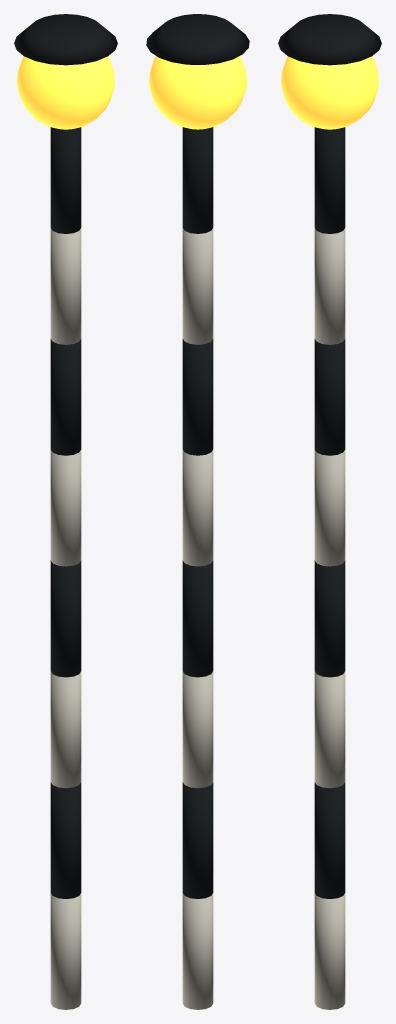
Rendered from crossing-beacon.glb.
3 views of the same model, side by side, from view 1: azimuth 90°, elevation 25°; view 2: azimuth 150°, elevation 25°; view 3: azimuth 270°, elevation 25° (orthographic).
Visible parts, largest first — view 1: Amber globe, Cap, Pole section.003, Pole section.006, Pole section, Pole section.001, Pole section.002, Pole section.005, Pole section.004, Pole section.007; view 2: Amber globe, Cap, Pole section.002, Pole section.005, Pole section.006, Pole section, Pole section.001, Pole section.003, Pole section.004, Pole section.007; view 3: Amber globe, Cap, Pole section.003, Pole section.006, Pole section, Pole section.001, Pole section.002, Pole section.005, Pole section.004, Pole section.007.
Part boxes in pixels (left/top/right/bottom): Amber globe: left=17, top=56, right=114, bottom=129; Cap: left=14, top=14, right=117, bottom=65; Pole section.003: left=50, top=560, right=81, bottom=677; Pole section.006: left=50, top=228, right=81, bottom=344; Pole section: left=50, top=893, right=81, bottom=1009; Pole section.001: left=50, top=782, right=81, bottom=898; Pole section.002: left=50, top=671, right=81, bottom=788; Pole section.005: left=50, top=339, right=81, bottom=455; Pole section.004: left=50, top=450, right=81, bottom=566; Pole section.007: left=50, top=127, right=81, bottom=233; Amber globe: left=149, top=56, right=246, bottom=129; Cap: left=146, top=14, right=249, bottom=64; Pole section.002: left=182, top=671, right=213, bottom=788; Pole section.005: left=182, top=339, right=213, bottom=455; Pole section.006: left=182, top=228, right=213, bottom=344; Pole section: left=182, top=893, right=213, bottom=1009; Pole section.001: left=182, top=782, right=213, bottom=898; Pole section.003: left=182, top=560, right=213, bottom=677; Pole section.004: left=182, top=449, right=213, bottom=566; Pole section.007: left=182, top=127, right=213, bottom=233; Amber globe: left=281, top=56, right=378, bottom=129; Cap: left=278, top=14, right=381, bottom=65; Pole section.003: left=314, top=560, right=345, bottom=677; Pole section.006: left=314, top=228, right=345, bottom=344; Pole section: left=314, top=893, right=345, bottom=1009; Pole section.001: left=314, top=782, right=345, bottom=898; Pole section.002: left=314, top=671, right=345, bottom=788; Pole section.005: left=314, top=339, right=345, bottom=455; Pole section.004: left=314, top=450, right=345, bottom=566; Pole section.007: left=314, top=127, right=345, bottom=233.
Size of the model in its own units: 0.34 by 3.52 by 0.34.
